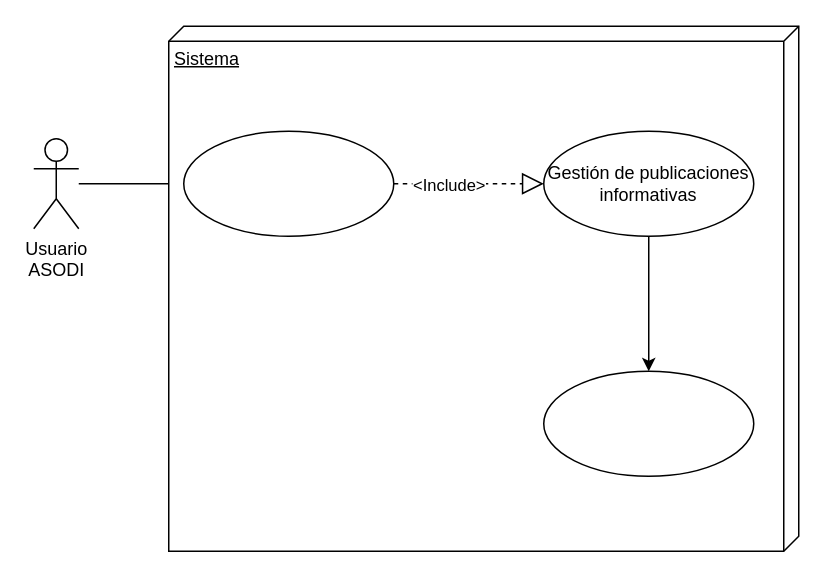
Image size: 825x578. Some labels were removed from this diagram. Here are the shapes that lost their labels. From the top down, the centre of each, then its label:
At point 288,183: "Visualizar publicaciones registradas anteriormente".
At point 648,423: "Base de datos de publicaciones informativas".
